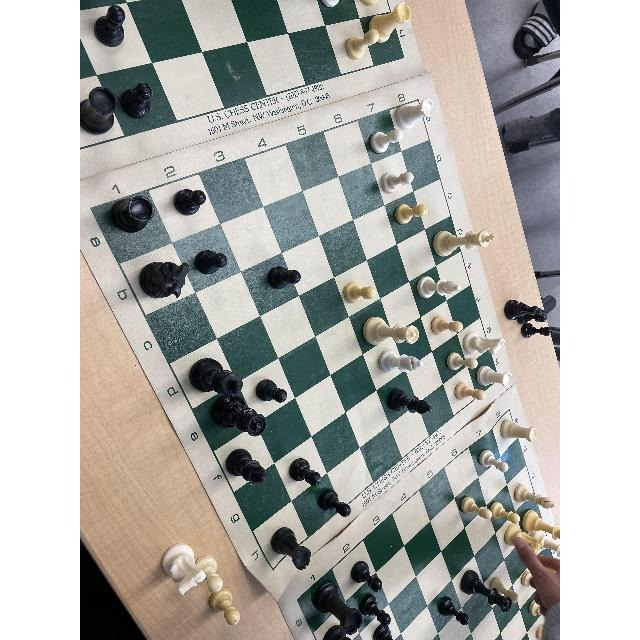black-bishop: (223, 448, 268, 486), (385, 386, 432, 416)
black-king: (188, 357, 246, 397)
black-knight: (139, 256, 190, 306)
black-pawn: (89, 0, 130, 51), (119, 80, 155, 124), (192, 246, 232, 282), (313, 487, 354, 521), (252, 375, 292, 409), (266, 260, 303, 296), (286, 456, 323, 492), (357, 592, 395, 627), (435, 594, 471, 630), (170, 183, 206, 218), (351, 559, 385, 592)
black-queen: (458, 565, 512, 612), (206, 396, 266, 436)
black-rook: (309, 582, 363, 633), (270, 526, 317, 572), (108, 193, 157, 236), (82, 87, 120, 141)
white-bishop: (512, 482, 556, 512), (376, 349, 423, 377), (418, 275, 460, 301)
white-king: (433, 227, 497, 261), (522, 511, 559, 536)
white-knight: (501, 523, 542, 554)
white-pawn: (346, 27, 380, 62), (368, 127, 404, 156), (489, 497, 521, 527), (344, 280, 378, 307), (393, 202, 429, 227), (491, 574, 519, 604), (430, 314, 463, 339), (478, 449, 509, 475), (380, 172, 416, 194), (458, 496, 490, 520), (445, 352, 478, 374), (453, 381, 486, 403)
white-rook: (367, 3, 414, 43), (393, 95, 440, 131), (499, 417, 536, 445), (476, 362, 513, 389)
